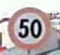limite 50: (6, 7, 51, 48)
